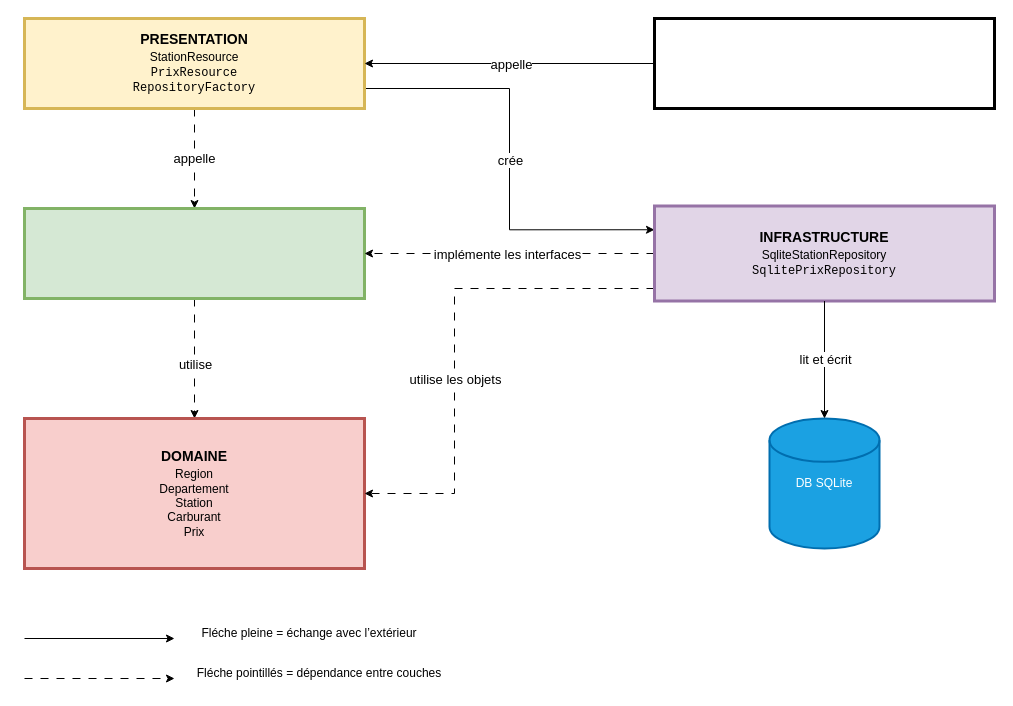
This 1013x706 diagram has some shape labels left out. Each missing label, with the centre of its shape:
"APPLICATION RechercheStations StatistiquesPrix" belongs at (194,253).
"CLIENT Bruno Python JavaScript" belongs at (824,63).
